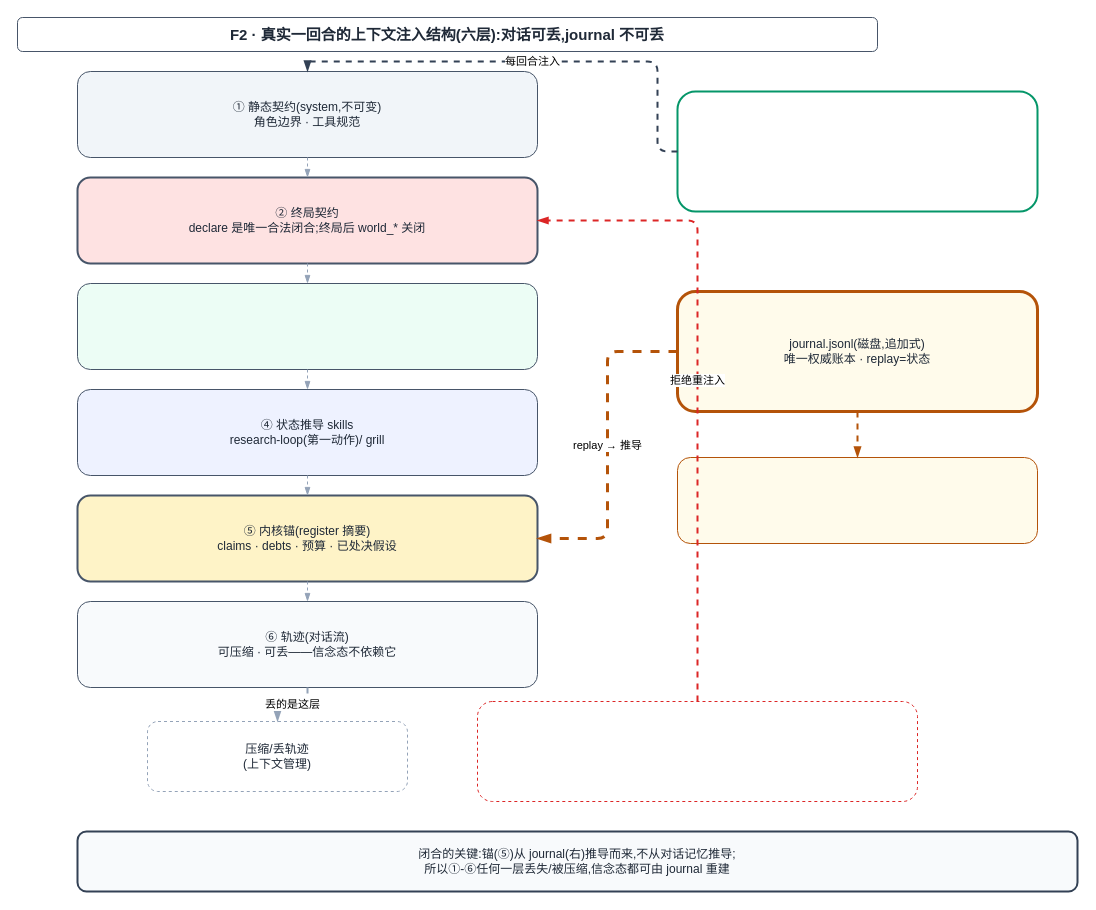
This 1096x910 diagram has some shape labels left out. Here are the shapes that lost their labels. From the top down, the box of each, then its label:
(676, 90, 1038, 212): Qwen 3.7-plus / 3.8-max (百炼)
(76, 282, 538, 370): ③ 环境注入(运行时) 「当前时间」 · 工作区 · 每 30min 刷新
(676, 456, 1038, 544): register.json 快照 (锚的来源)
(476, 700, 918, 802): P4.3 拒绝现场 「已钉死战役,拒绝访问 demo2r-ca-r1」 ——拒绝本身进入下一回合上下文
